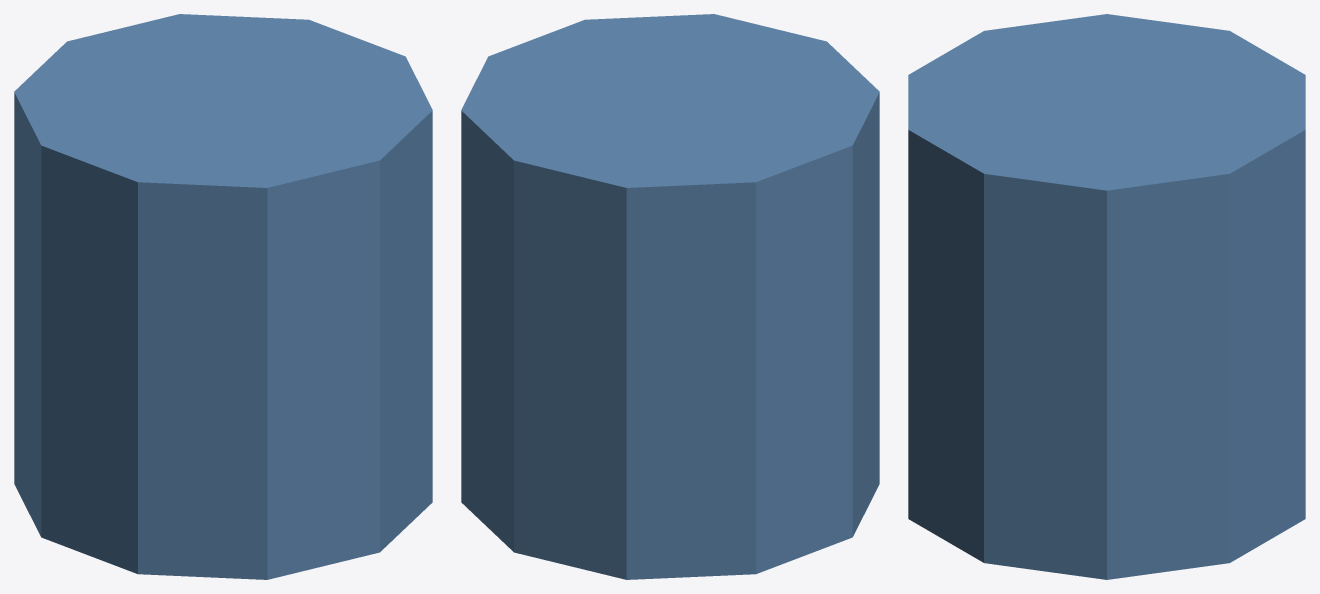
File: SM_Pipe_Water_DropElbow.fbx
3 views of the same model, side by side, from view 1: azimuth 30°, elevation 25°; view 2: azimuth 150°, elevation 25°; view 3: azimuth 270°, elevation 25° (orthographic).
Visible parts, largest first — view 1: SM_Pipe_Water_DropElbow; view 2: SM_Pipe_Water_DropElbow; view 3: SM_Pipe_Water_DropElbow.
Boxes of the visible parts, x1=… form: SM_Pipe_Water_DropElbow: x1=14, y1=14, x2=432, y2=579; SM_Pipe_Water_DropElbow: x1=461, y1=14, x2=879, y2=579; SM_Pipe_Water_DropElbow: x1=908, y1=14, x2=1305, y2=579.
Size of the model in its own units: 14.6 by 13.89 by 15.
